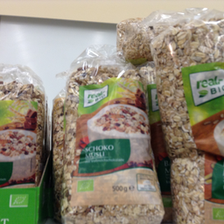cereal: (52, 68, 166, 222), (146, 16, 223, 223), (1, 65, 46, 188)
